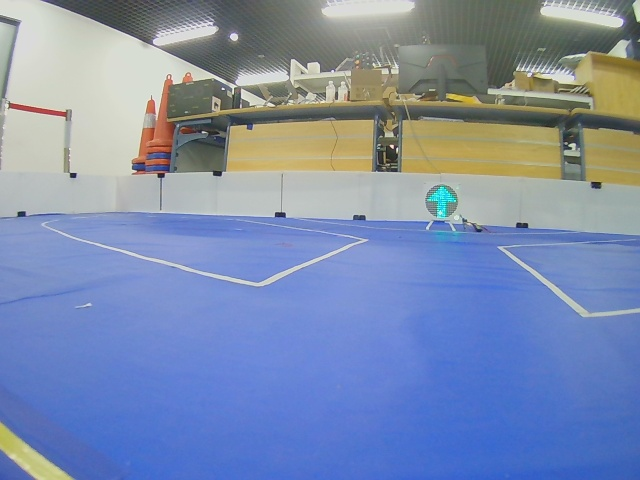straight_green: (425, 185, 458, 219)
